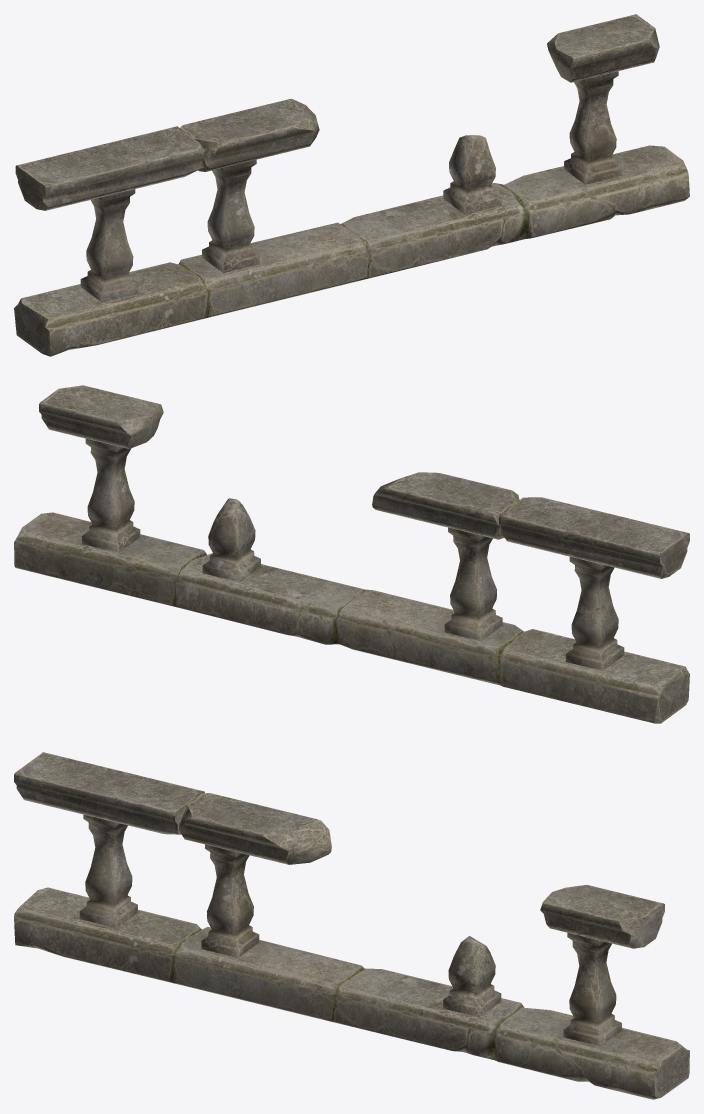
The model's file is SM_Ballustrade_Ruined_03.fbx.
3 views of the same model, one above another, from view 1: azimuth 30°, elevation 25°; view 2: azimuth 150°, elevation 25°; view 3: azimuth 330°, elevation 25° (orthographic).
Visible parts, largest first — view 1: SM_Ballustrade_Ruined_03_LOD0; view 2: SM_Ballustrade_Ruined_03_LOD0; view 3: SM_Ballustrade_Ruined_03_LOD0.
Boxes of the visible parts, x1,y1,x2,y2 form: SM_Ballustrade_Ruined_03_LOD0: (14,14,689,356); SM_Ballustrade_Ruined_03_LOD0: (14,385,689,723); SM_Ballustrade_Ruined_03_LOD0: (14,752,689,1099).
Size of what is drawn, in the model's own units: 400 by 101 by 37.49.
